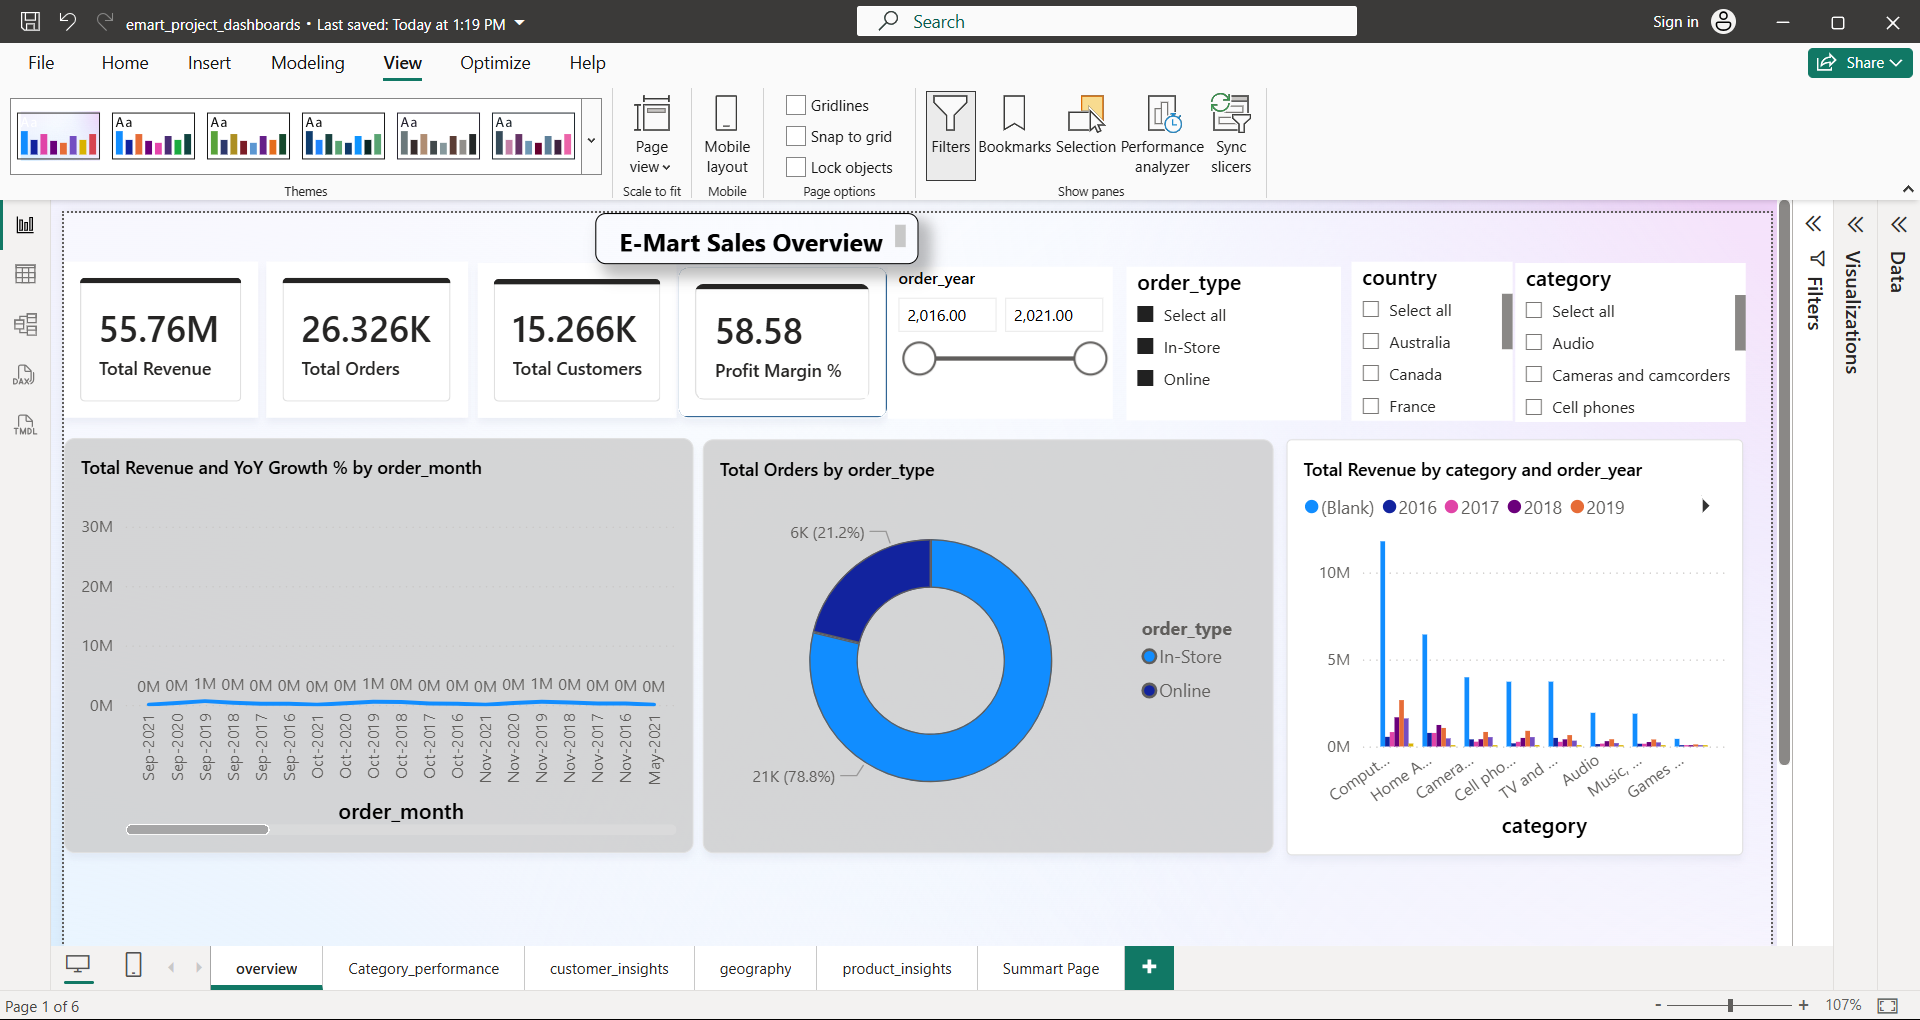

What the dashboard file says about the page in this screenshot:
{"tool":"powerbi","page":{"name":"overview","canvas":[1280,720],"ordinal":0},"visuals":[{"type":"cardVisual","fields":{"Data":["products.Total Revenue"]},"box":[0,35,221,141],"z":0},{"type":"cardVisual","fields":{"Data":["products.Total Orders"]},"box":[246,35,209,142],"z":1000},{"type":"cardVisual","fields":{"Data":["products.Total Customers"]},"box":[481.8,35.5,204.2,141.8],"z":2000},{"type":"cardVisual","fields":{"Data":["products.Profit Margin %"]},"box":[715,38,253,142],"z":3000},{"type":"lineChart","fields":{"Category":["sales.order_month"],"Y":["products.Total Revenue"]},"box":[9.6,188,472,311.5],"z":4000},{"type":"donutChart","fields":{"Y":["products.Total Orders"],"Category":["sales.order_type"]},"box":[488,188,480,311],"z":5000},{"type":"slicer","fields":{"Values":["sales.order_year"]},"box":[0,522,319,156],"z":6000},{"type":"slicer","fields":{"Values":["sales.order_type"]},"box":[342,522,161,156],"z":7000},{"type":"slicer","fields":{"Values":["products.category"]},"box":[519,522,313,156],"z":8000},{"type":"slicer","fields":{"Values":["customers.country"]},"box":[847,522,121,156],"z":9000},{"type":"textbox","box":[398,0,242,38],"z":10000},{"type":"clusteredColumnChart","fields":{"Category":["products.category"],"Series":["sales.order_year"],"Y":["products.Total Revenue"]},"box":[987,188,293,312],"z":11000}]}

Visuals, with their boxes on the page's 1280x720 design canvas (x1, y1, x2, y2). These are canvas units, not pixel positions in the 1920x1020 screenshot, which may show the page scaled, cropped or inside an application window:
cardVisual - products.Total Revenue: rect(0, 35, 221, 176)
cardVisual - products.Total Orders: rect(246, 35, 455, 177)
cardVisual - products.Total Customers: rect(482, 36, 686, 177)
cardVisual - products.Profit Margin %: rect(715, 38, 968, 180)
lineChart - sales.order_month x products.Total Revenue: rect(10, 188, 482, 500)
donutChart - products.Total Orders x sales.order_type: rect(488, 188, 968, 499)
slicer - sales.order_year: rect(0, 522, 319, 678)
slicer - sales.order_type: rect(342, 522, 503, 678)
slicer - products.category: rect(519, 522, 832, 678)
slicer - customers.country: rect(847, 522, 968, 678)
textbox: rect(398, 0, 640, 38)
clusteredColumnChart - products.category x sales.order_year: rect(987, 188, 1280, 500)
